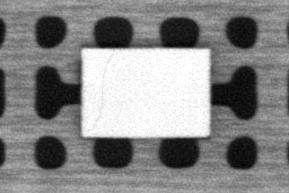DIE_CRACK: (85, 52, 116, 133)
